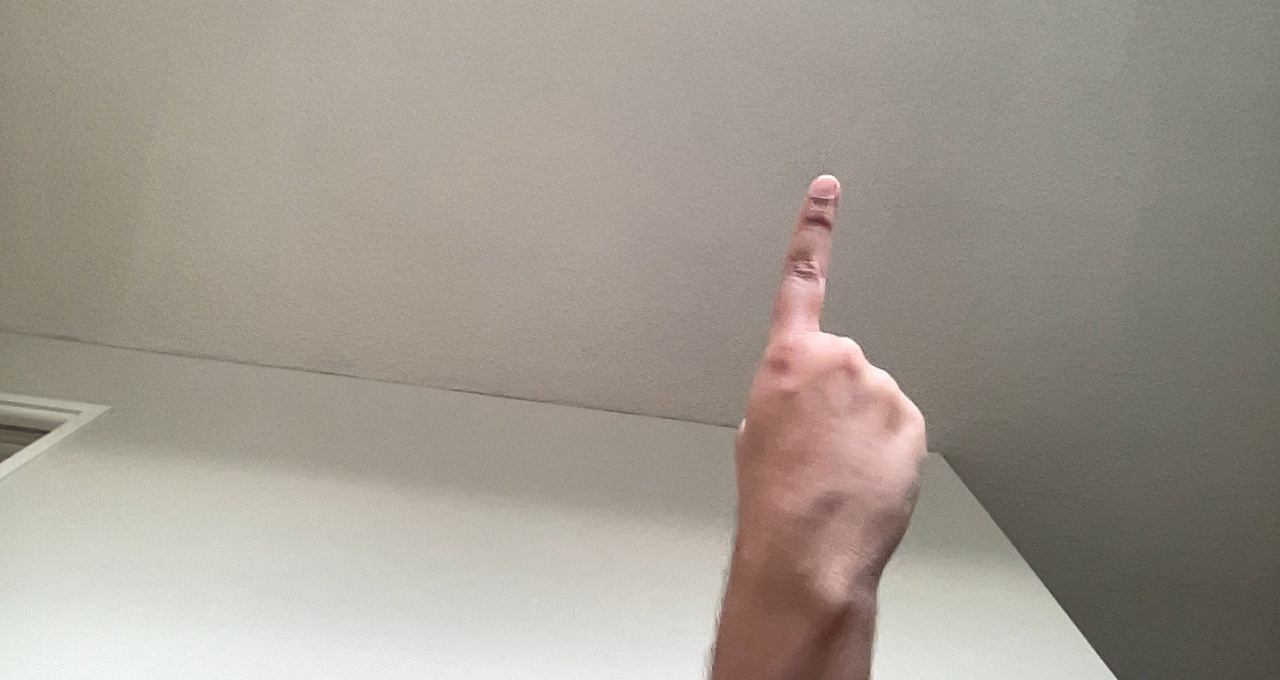fingerup: (754, 163, 932, 545)
